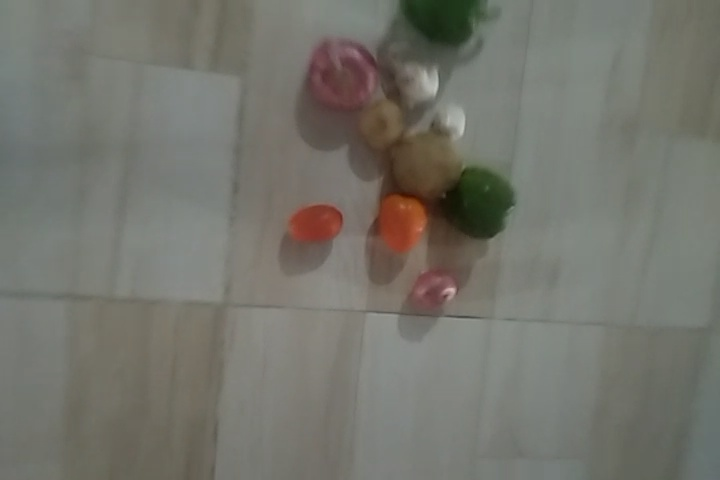capsicum: (445, 165, 522, 235), (391, 2, 491, 47)
garlic: (393, 59, 440, 106), (427, 101, 467, 139)
onion: (306, 41, 372, 106), (411, 269, 464, 314)
potato: (391, 133, 456, 197), (362, 99, 402, 146)
tomato: (381, 186, 425, 252), (283, 203, 341, 245)
